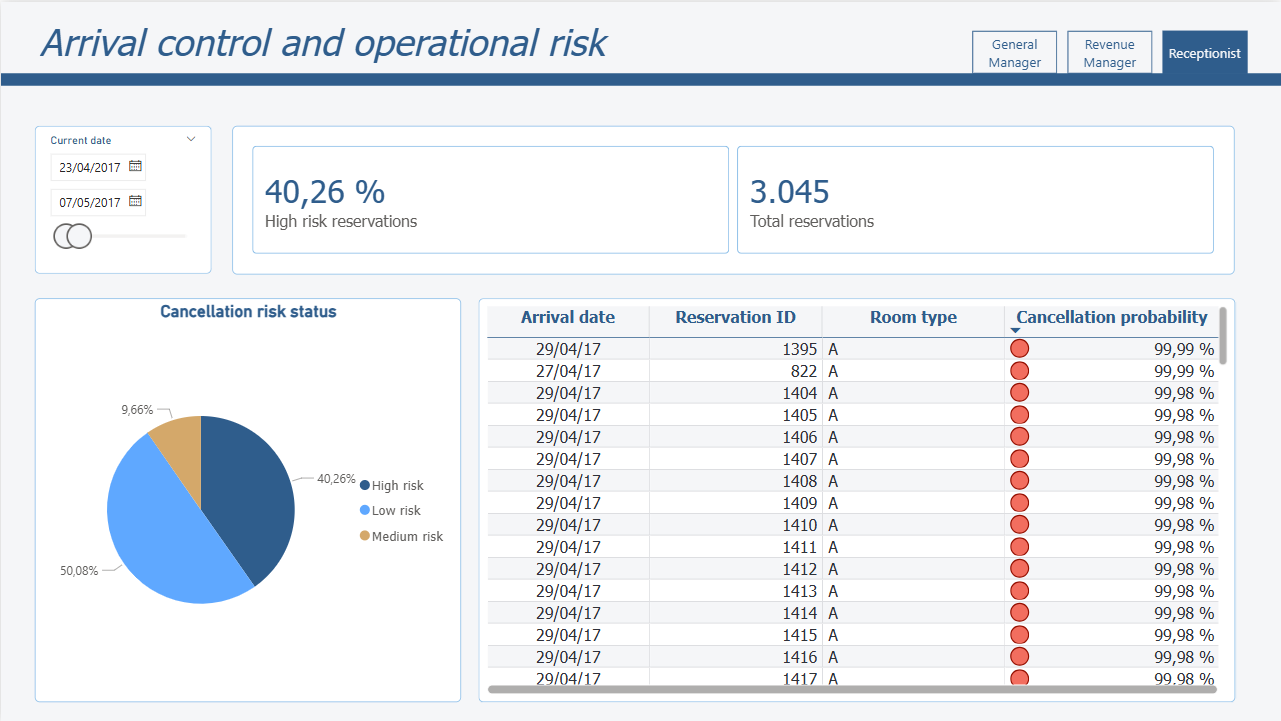

The dashboard page shown, as its layout file describes it:
{"tool":"powerbi","page":{"name":"Receptionist","canvas":[1280,720],"ordinal":3},"visuals":[{"type":"cardVisual","fields":{"Data":["Mesures.%_risc_alt","Mesures.Total_reserves_futures"]},"box":[231.6,123.7,1002.6,148.7],"z":0},{"type":"tableEx","fields":{"Values":["public dim_calendar.arrival_date","public fact_future_simulation.id_reservation","public dim_room.reserved_room_type","public fact_future_simulation.cancellation_probability"]},"box":[477.1,295.8,757.1,404],"z":1000},{"type":"slicer","fields":{"Values":["public dim_calendar.arrival_date"]},"box":[33.4,124.1,176.5,147.9],"z":2000},{"type":"textbox","box":[33.8,11.2,621.2,93.8],"z":3000},{"type":"pageNavigator","box":[971.2,28.8,275,43.8],"z":4000},{"type":"pieChart","title":"Cancellation risk status","fields":{"Y":["Mesures.%_risc_alt","Mesures.%_risc_baix","Mesures.%_risc_mitja"]},"box":[33.4,295.8,426.2,404],"z":5000},{"type":"shape","box":[0,71.2,1280,12.5],"z":6000}]}

Visuals, with their boxes in screenshot pixels (x1, y1, x2, y2), scaled from the page's 1280x720 canvas onto the 1281x721 screenshot:
cardVisual - Mesures.%_risc_alt x Mesures.Total_reserves_futures: left=232, top=124, right=1235, bottom=273
tableEx - public dim_calendar.arrival_date x public fact_future_simulation.id_reservation: left=477, top=296, right=1235, bottom=701
slicer - public dim_calendar.arrival_date: left=33, top=124, right=210, bottom=272
textbox: left=34, top=11, right=656, bottom=105
pageNavigator: left=972, top=29, right=1247, bottom=73
"Cancellation risk status" pieChart: left=33, top=296, right=460, bottom=701
shape: left=0, top=71, right=1280, bottom=84
